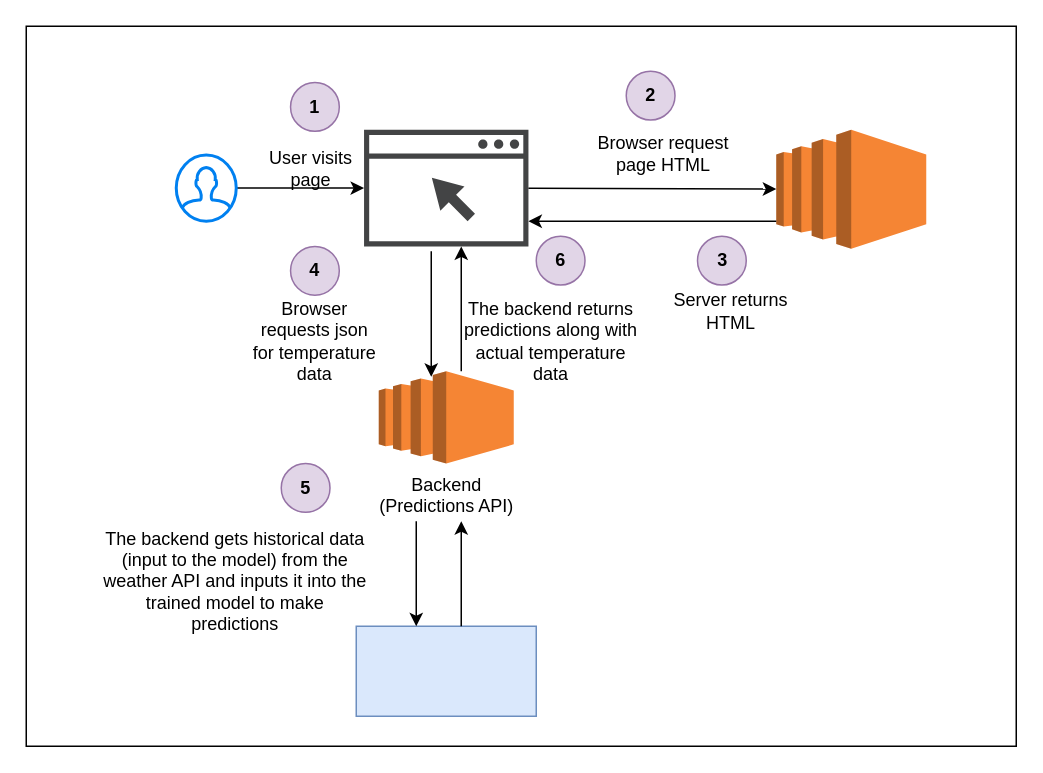
Some shapes in this 1043 by 773 pixel diagram are drawn without their labels. The shapes that lost their labels are listed below. From the top down, each one's box as (x1, y1, x2, y2) in pixels, then its label:
(174, 153, 237, 222): User
(775, 128, 926, 249): Webserver (Frontend)
(355, 625, 536, 716): IBM Weather API
